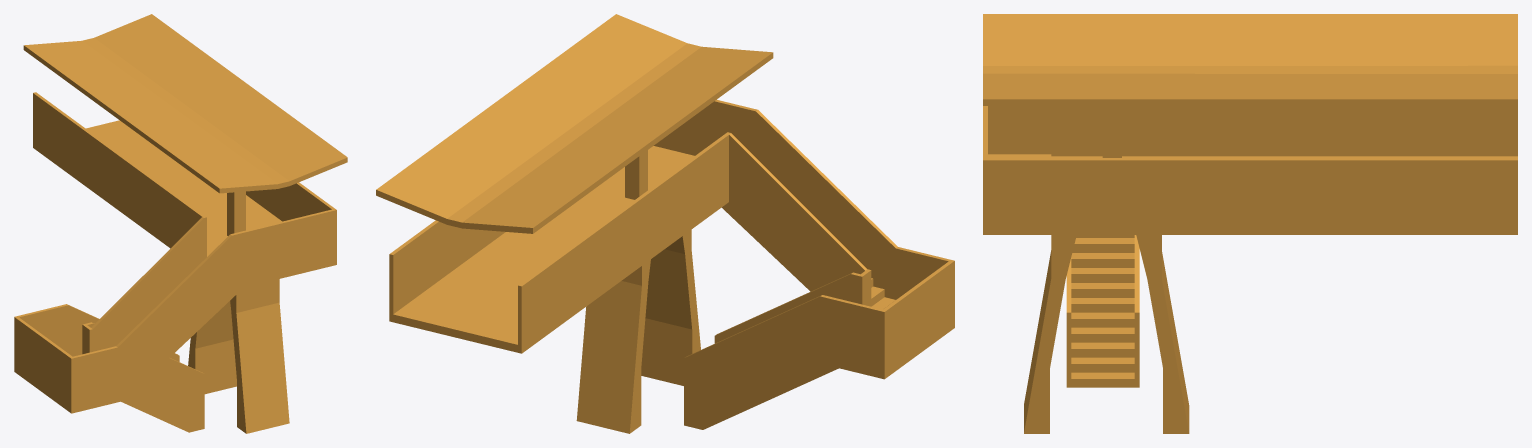
Rendered from trainstation-oberpass-end.glb.
3 renders of one model, left to right at view 1: azimuth 30°, elevation 25°; view 2: azimuth 150°, elevation 25°; view 3: azimuth 270°, elevation 25°, orthographic. The views are drawn at different scales.
Parts seen in each view (by area): view 1: trainstation-oberpass-end; view 2: trainstation-oberpass-end; view 3: trainstation-oberpass-end.
Boxes of the visible parts, x1,y1,x2,y2 form: trainstation-oberpass-end: [14, 14, 347, 433]; trainstation-oberpass-end: [376, 14, 954, 433]; trainstation-oberpass-end: [983, 14, 1517, 433].
Bounding box in the file's own units: 8.95 × 8.25 × 10.99.
